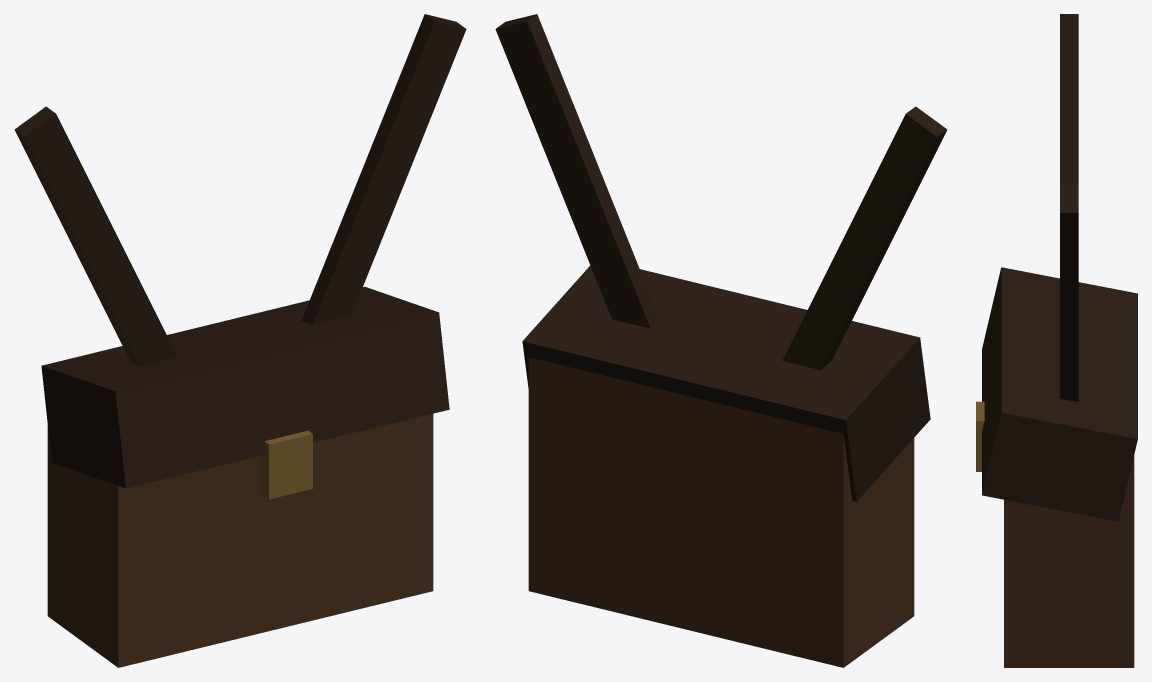
Rendered from satchel.glb.
3 renders of one model, left to right at view 1: azimuth 30°, elevation 25°; view 2: azimuth 150°, elevation 25°; view 3: azimuth 270°, elevation 25°, orthographic. The views are drawn at different scales.
Visible parts, largest first — view 1: Satchel; view 2: Satchel; view 3: Satchel.
Part boxes in pixels (x1,y1,x2,y2): Satchel: (14, 14, 466, 667); Satchel: (495, 14, 947, 667); Satchel: (976, 14, 1137, 667).
Size of the model in its own units: 0.5053 by 0.5897 by 0.1738.
